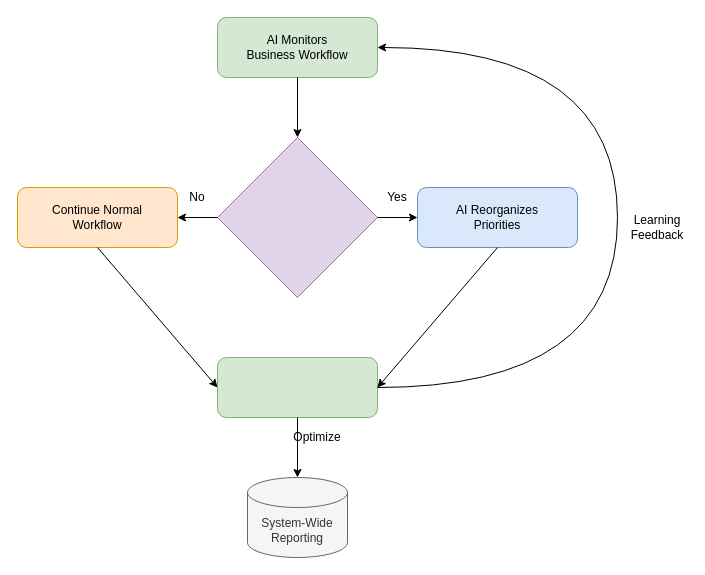
Image size: 705x575. Some labels were removed from this diagram. Here are the shapes that lost their labels. From the top down, the centre of each, then its label:
the point at 297,217: Detects Task/Process Bottlenecks?
the point at 297,387: Automated Execution & Learning Loop
